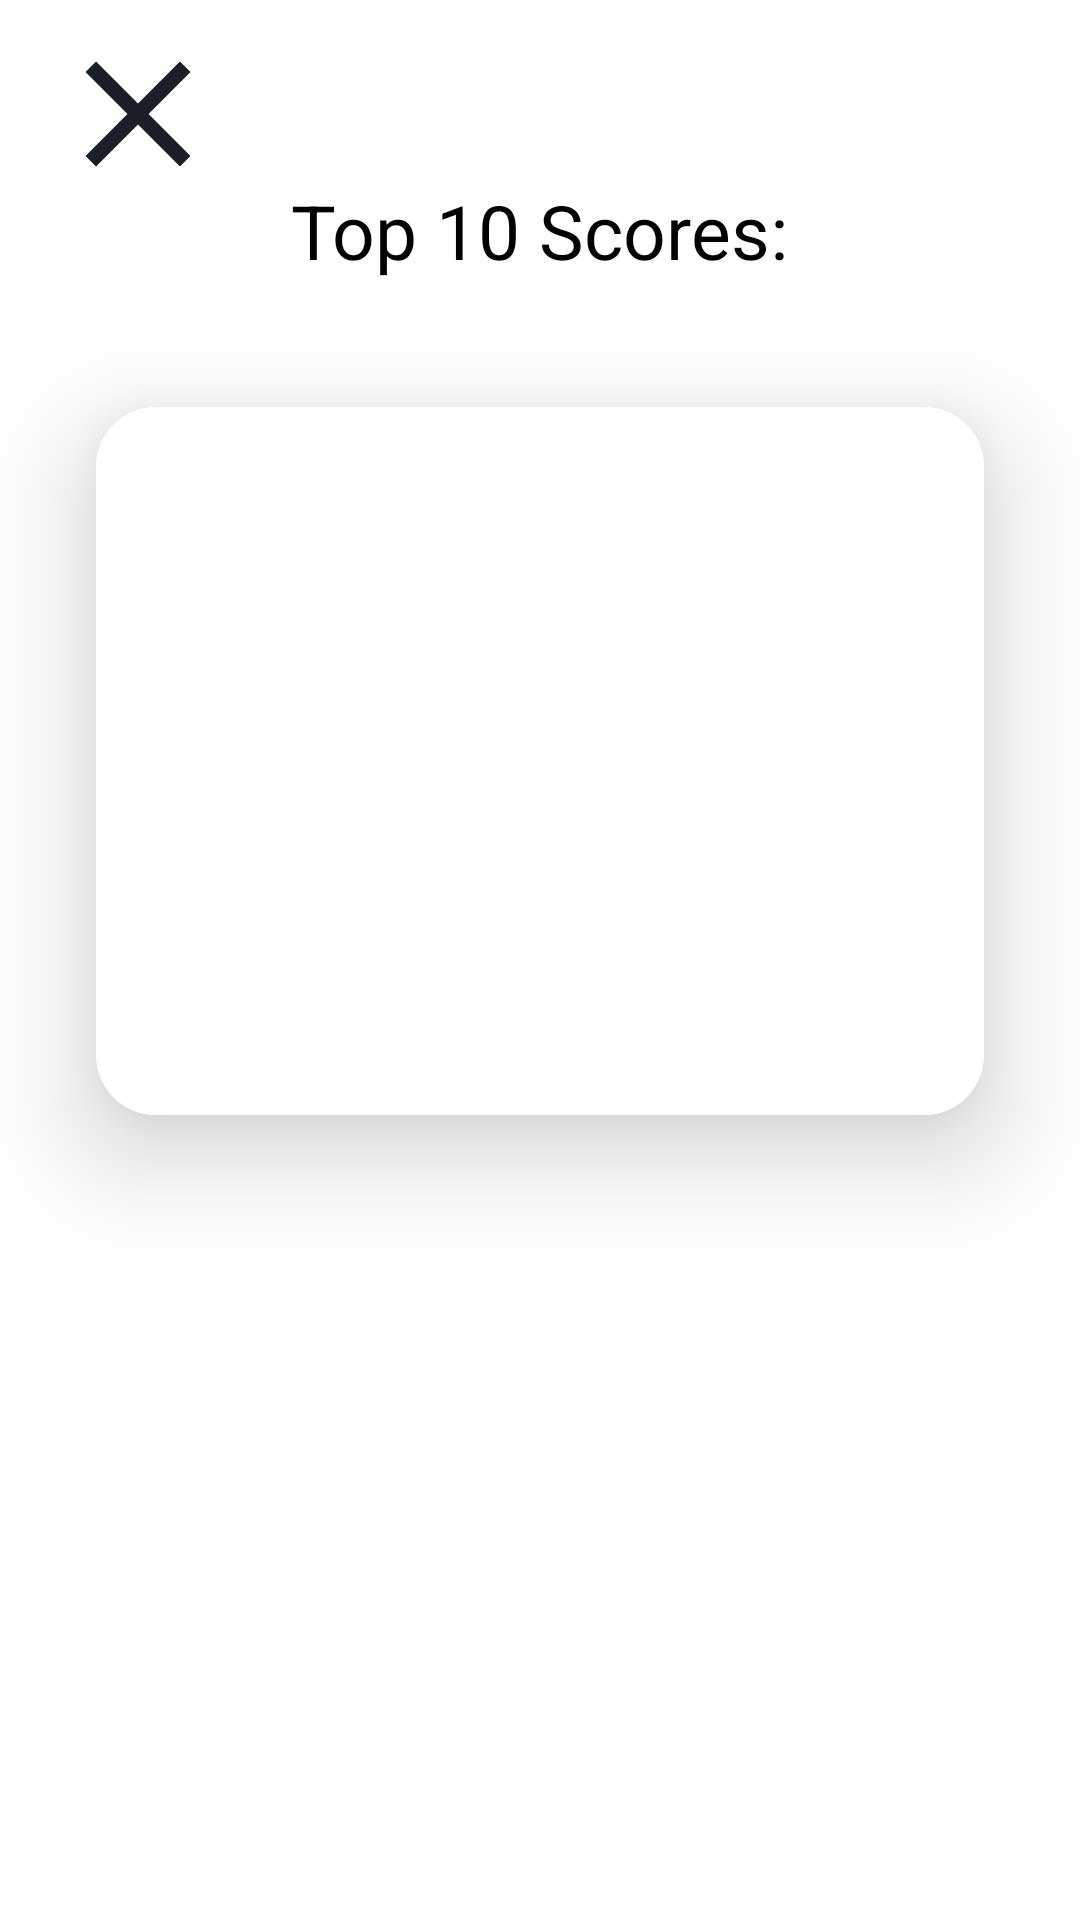

Named icons in this screenshot (1080 × 1920) and their bounding boxes, (x1,y1,x2,y2):
close: (85,61,191,167)
